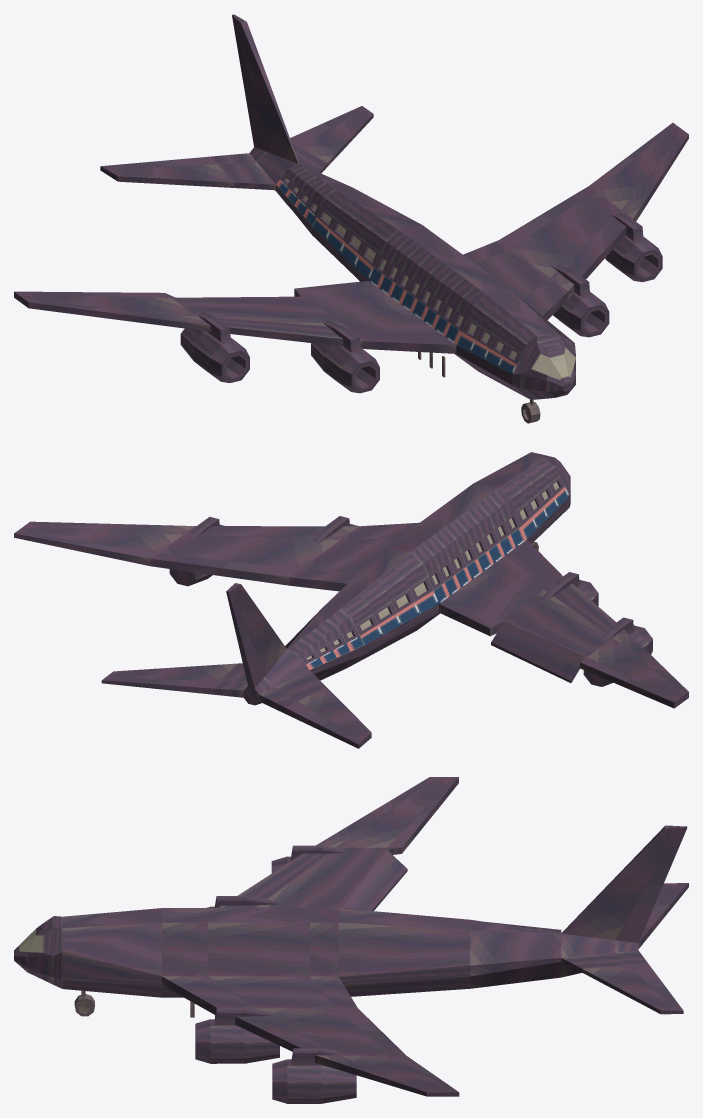
Rendered from 239_Airplane.gltf.
The picture shows the model from 3 angles, top to bottom: view 1: azimuth 30°, elevation 25°; view 2: azimuth 150°, elevation 25°; view 3: azimuth 270°, elevation 25°; orthographic projection.
Parts seen in each view (by area): view 1: Airplane; view 2: Airplane; view 3: Airplane.
Part boxes in pixels (bbox=[...]): Airplane: bbox=[14, 14, 688, 423]; Airplane: bbox=[14, 452, 688, 748]; Airplane: bbox=[14, 777, 688, 1103].
Size of the model in its own units: 79.88 by 21.65 by 70.46.
1 material, 1 textured.
